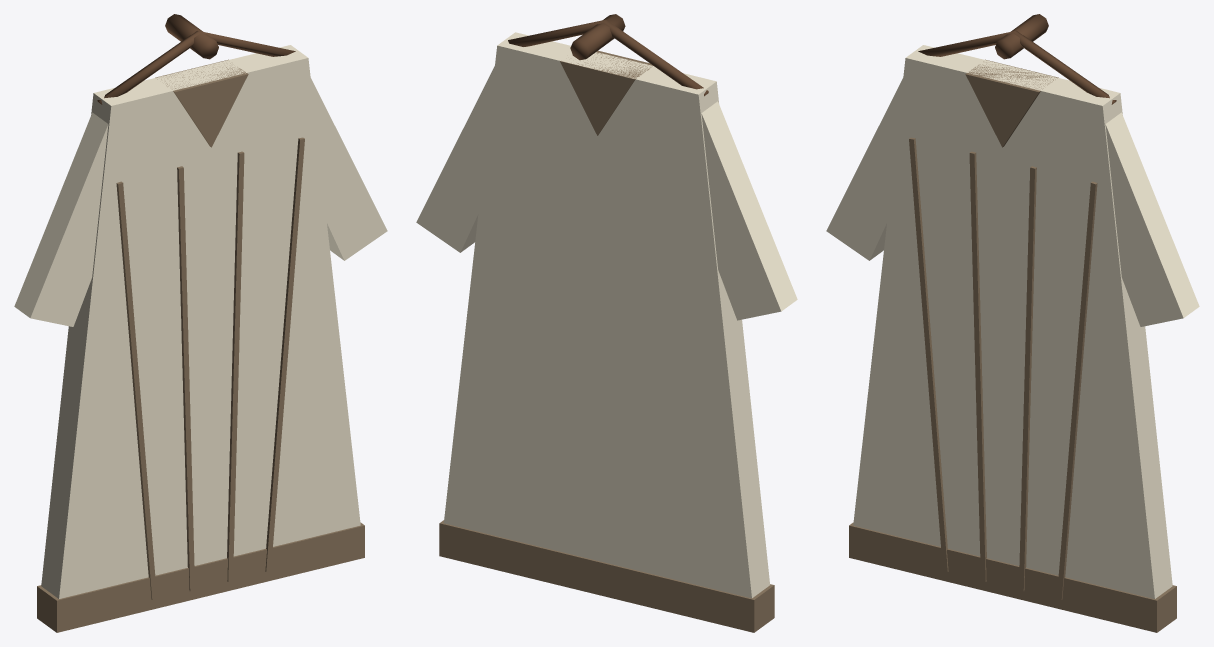
Rendered from surplice.glb.
3 renders of one model, left to right at view 1: azimuth 30°, elevation 25°; view 2: azimuth 150°, elevation 25°; view 3: azimuth 330°, elevation 25°, orthographic. The views are drawn at different scales.
Visible parts, largest first — view 1: surplice; view 2: surplice; view 3: surplice.
Part boxes in pixels (bbox=[...]): surplice: bbox=[14, 14, 387, 632]; surplice: bbox=[416, 14, 797, 632]; surplice: bbox=[826, 14, 1199, 632].
Size of the model in its own units: 0.58 by 0.8626 by 0.105.
